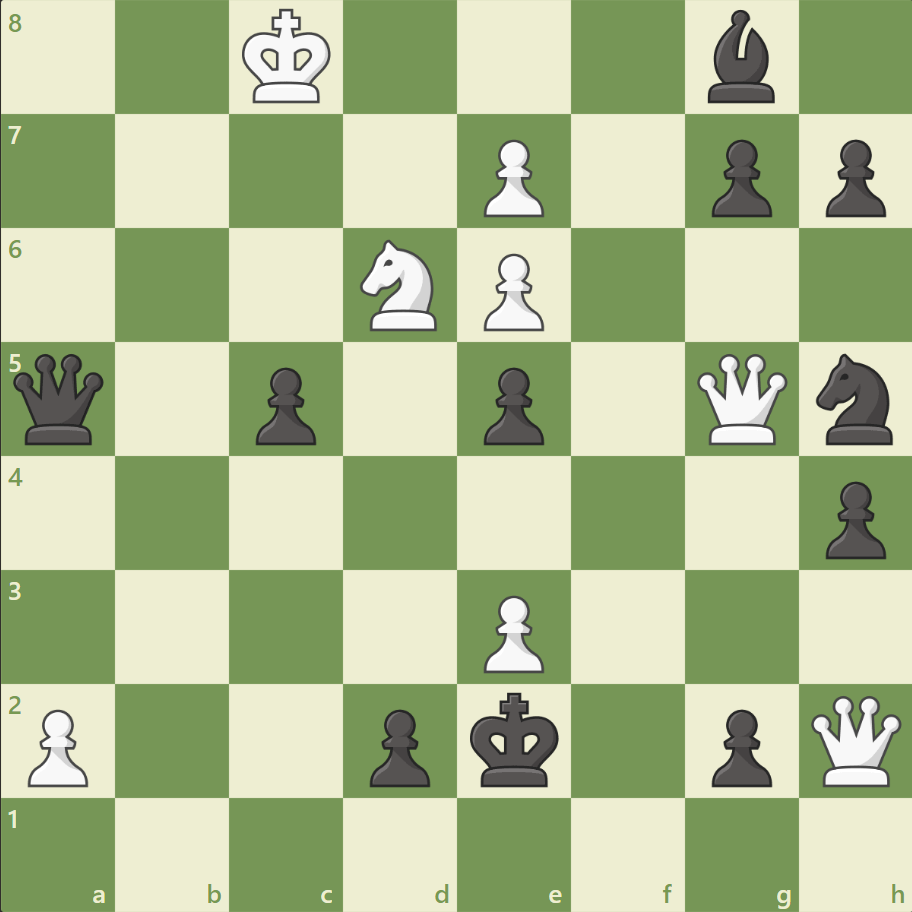K: (238, 4, 338, 112)
N: (351, 234, 449, 337)
P: (474, 132, 549, 223), (474, 246, 549, 337), (474, 586, 549, 677), (20, 700, 95, 791)
Q: (691, 349, 790, 449), (805, 690, 904, 789)
b: (698, 6, 782, 109)
k: (465, 685, 565, 793)
n: (806, 348, 903, 450)
p: (701, 132, 776, 223), (247, 359, 322, 450), (474, 359, 549, 450), (701, 700, 776, 791), (815, 132, 889, 223), (815, 473, 889, 564), (361, 700, 435, 791)
q: (10, 349, 109, 449)
